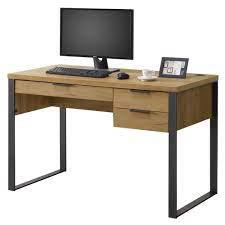desk: (6, 5, 221, 210)
